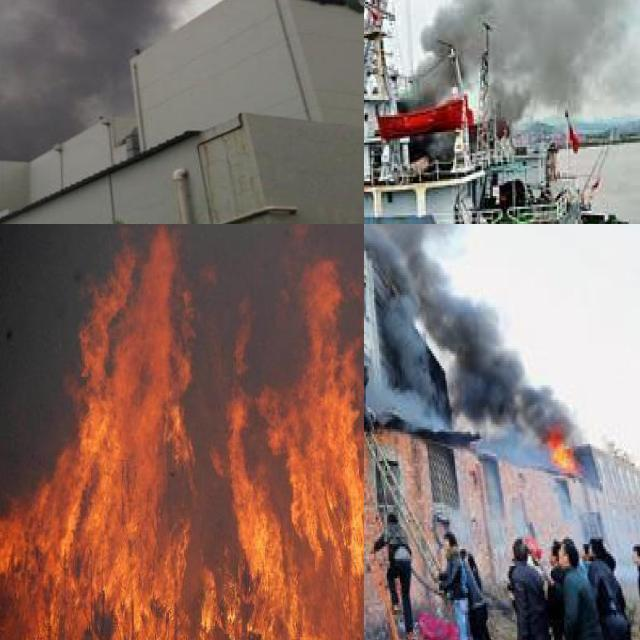fire: (0, 224, 364, 640), (546, 429, 576, 468)
smoke: (364, 224, 575, 441), (402, 0, 640, 115)
